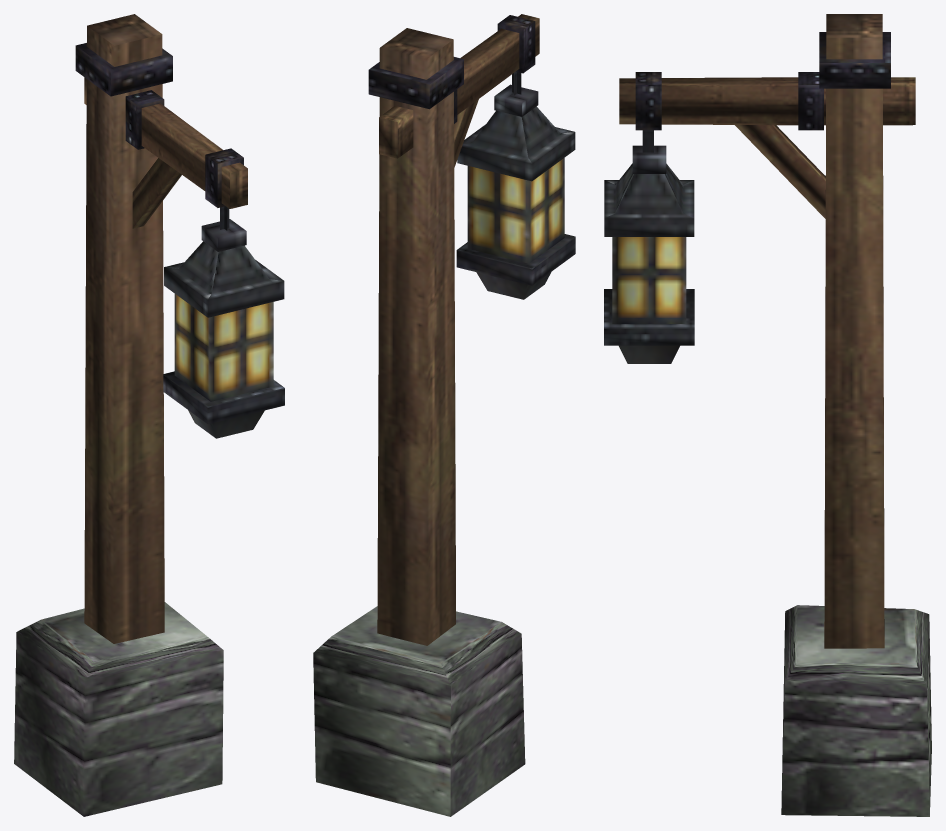
Rendered from Scene_Building_Elements_03.FBX.
3 views of the same model, side by side, from view 1: azimuth 30°, elevation 25°; view 2: azimuth 150°, elevation 25°; view 3: azimuth 270°, elevation 25° (orthographic). The views are drawn at different scales.
Parts seen in each view (by area): view 1: Scene_Building_Elements_03; view 2: Scene_Building_Elements_03; view 3: Scene_Building_Elements_03.
Part boxes in pixels (box(x1,y1,x2,y2)): Scene_Building_Elements_03: box(14, 14, 284, 816); Scene_Building_Elements_03: box(313, 14, 575, 816); Scene_Building_Elements_03: box(604, 14, 931, 816).
Bounding box in the file's own units: 1.85 × 9 × 3.52.
